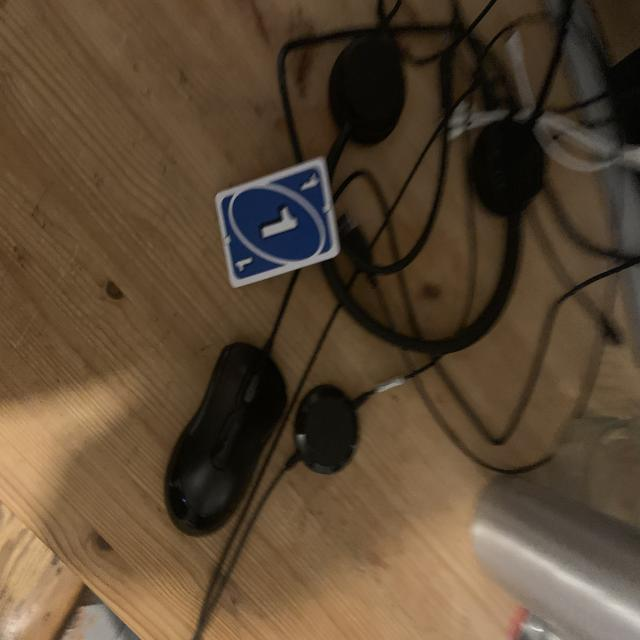lblue-1: (297, 167, 323, 197)
